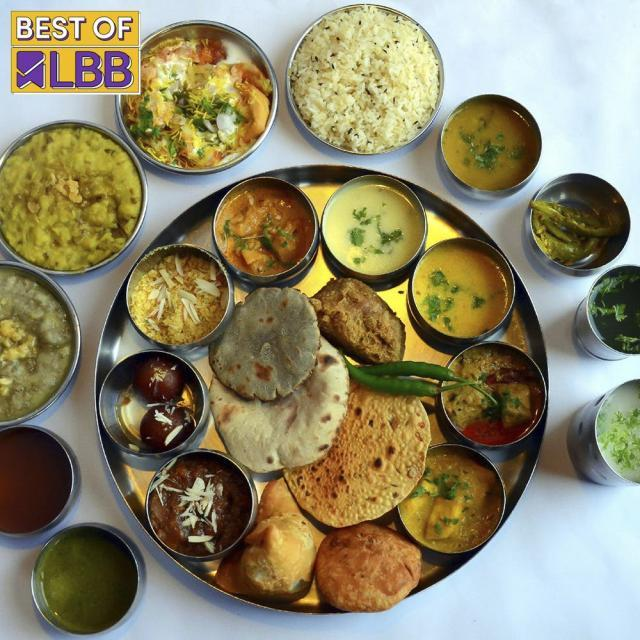dal: (413, 448, 509, 555), (416, 243, 517, 343)
papad: (335, 385, 426, 511)
rice: (288, 16, 439, 156)
roti: (210, 287, 323, 400)
sambar-rasam: (2, 423, 77, 539)
sweet: (110, 354, 207, 457)
veg-fry: (212, 175, 323, 284)
